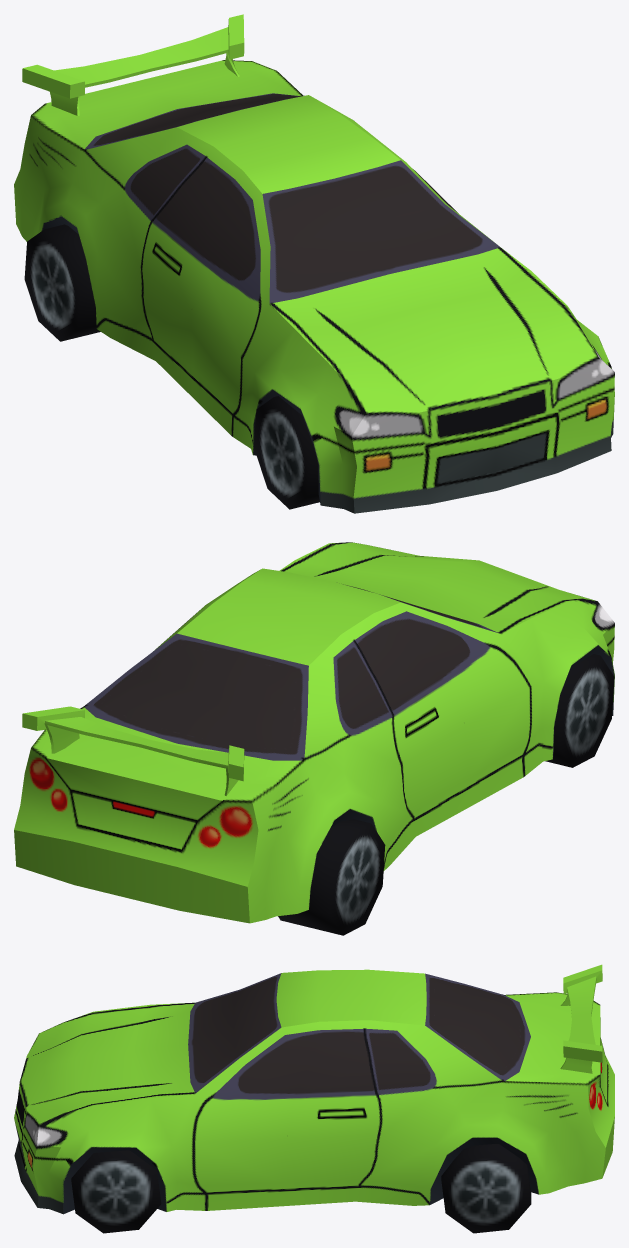
The model's file is Skyline R34.fbx.
The picture shows the model from 3 angles, top to bottom: view 1: azimuth 30°, elevation 25°; view 2: azimuth 150°, elevation 25°; view 3: azimuth 270°, elevation 25°; orthographic projection. The views are drawn at different scales.
Parts seen in each view (by area): view 1: Cube, Cube.003, Cube.004; view 2: Cube, Cube.003, Cube.004; view 3: Cube, Cube.002, Cube.001.
Part boxes in pixels (box(x1,y1,x2,y2)): Cube: box(14, 14, 614, 513); Cube.003: box(24, 224, 100, 341); Cube.004: box(254, 396, 319, 509); Cube: box(14, 542, 614, 923); Cube.003: box(278, 819, 385, 935); Cube.004: box(545, 654, 614, 767); Cube: box(14, 964, 614, 1214); Cube.002: box(441, 1144, 531, 1233); Cube.001: box(71, 1150, 161, 1233).
Size of the model in its own units: 223 by 155 by 472.
1 material, 1 textured.
